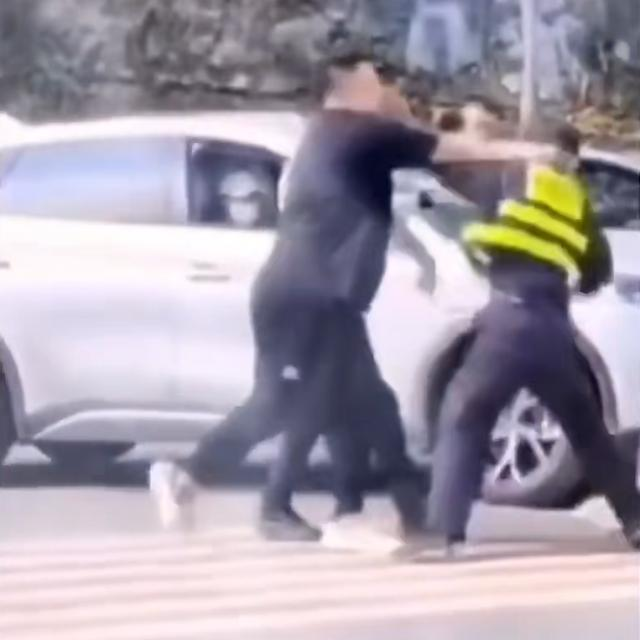fight: (282, 51, 613, 306)
